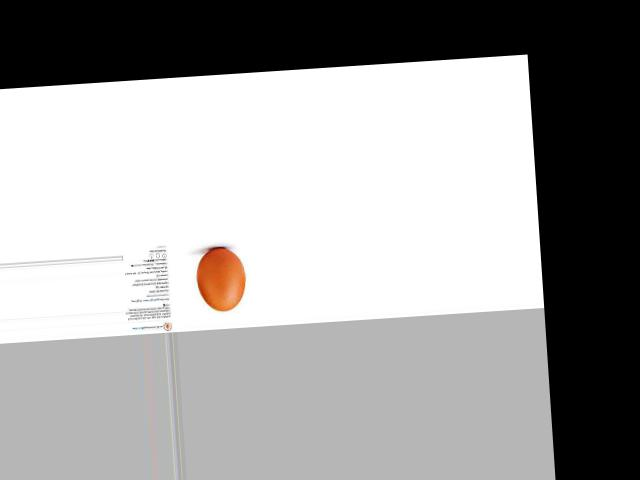egg: (194, 246, 247, 312)
